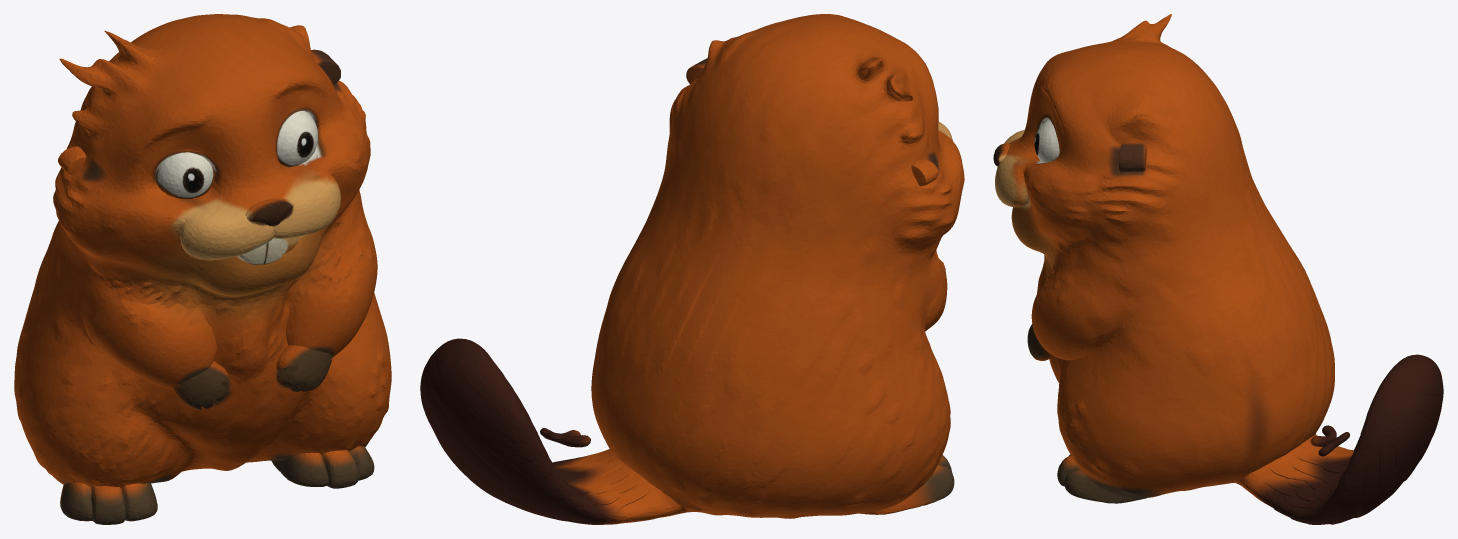
The model's file is nova.glb.
3 renders of one model, left to right at view 1: azimuth 30°, elevation 25°; view 2: azimuth 150°, elevation 25°; view 3: azimuth 270°, elevation 25°, orthographic. The views are drawn at different scales.
Parts seen in each view (by area): view 1: tmp032tbnsc.ply; view 2: tmp032tbnsc.ply; view 3: tmp032tbnsc.ply.
Part boxes in pixels (x1=…): tmp032tbnsc.ply: x1=14, y1=14, x2=391, y2=524; tmp032tbnsc.ply: x1=420, y1=14, x2=964, y2=524; tmp032tbnsc.ply: x1=993, y1=14, x2=1443, y2=524.
Size of the model in its own units: 1.29 by 1.35 by 1.39.
